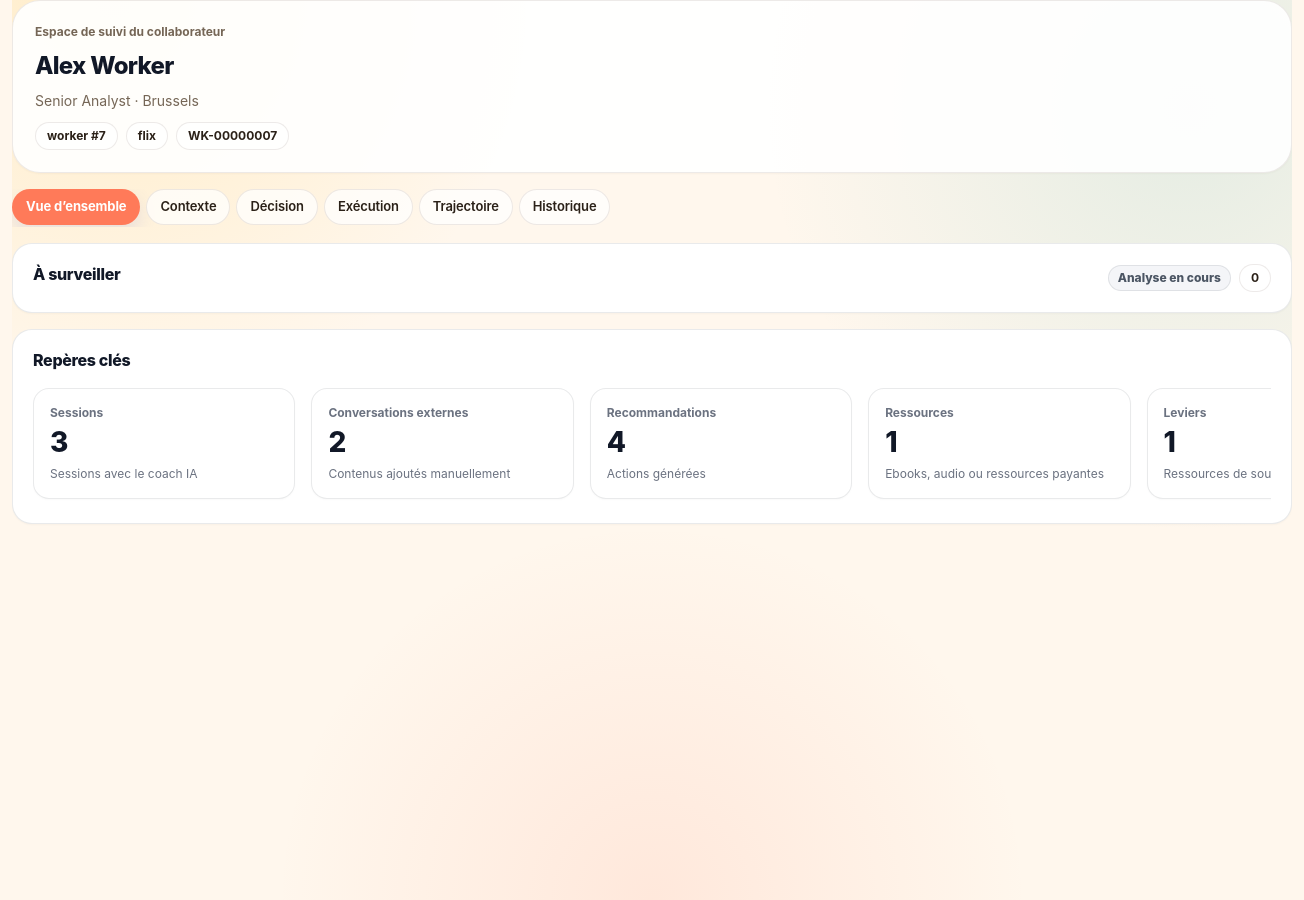
Test: Organization Insights internationalization › moves lever workspace and lever resources out of Overview and into Trajectory
The width and height of the screenshot is (1304, 900).
expect the text "Ressources et leviers" is not shown: met
expect the field with placeholder "Rechercher par nom, catégorie, fournisseur ou motif..." is not shown: met
Click the tab "Trajectoire" at [466, 207], box [419,189,513,225]
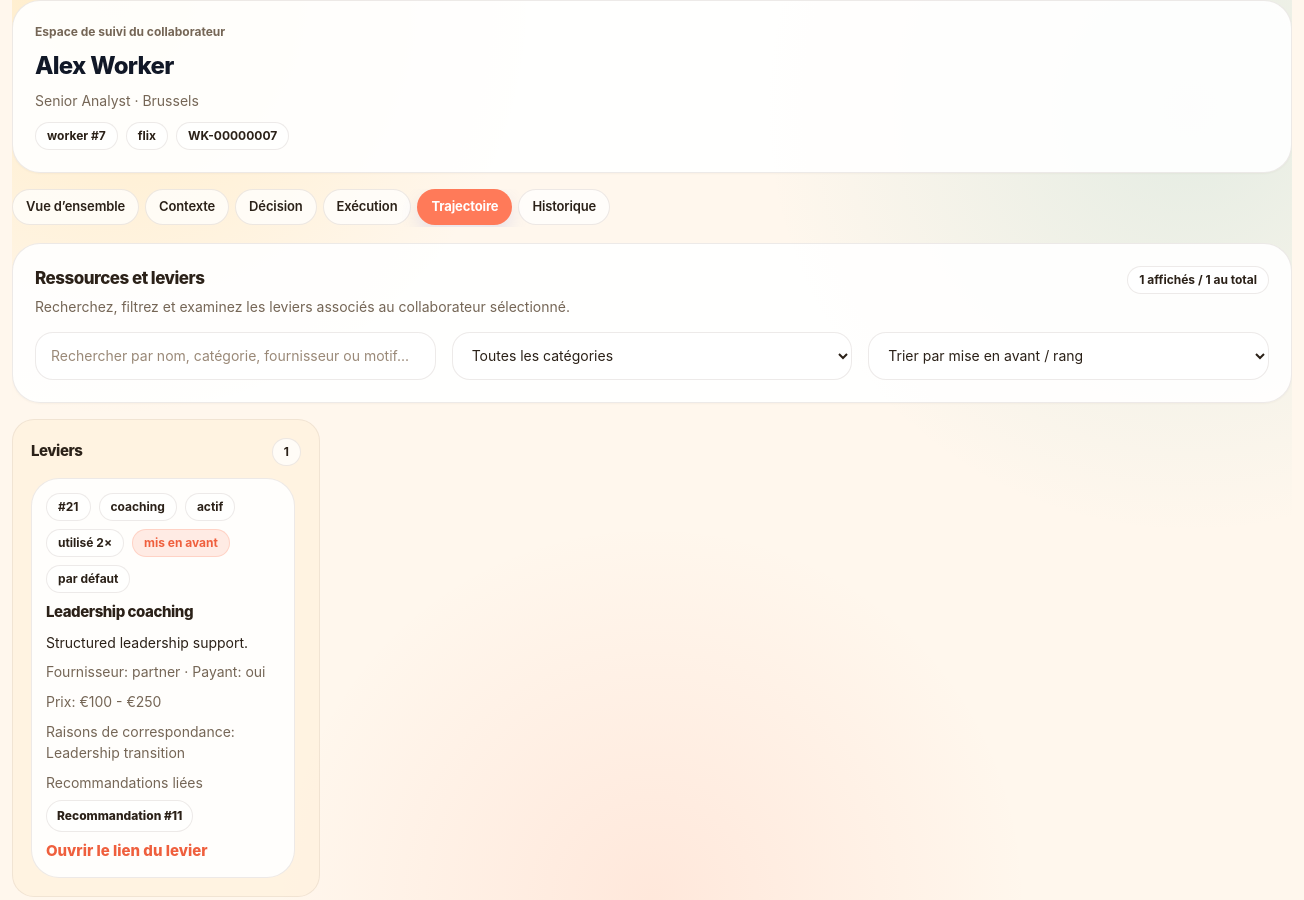
expect the text "Ressources et leviers" is shown: met, box [35,268,204,288]
expect the field with placeholder "Rechercher par nom, catégorie, fournisseur ou motif..." is shown: met, box [35,332,436,380]
expect the text "Leadership coaching" is shown: met, box [46,602,193,621]
